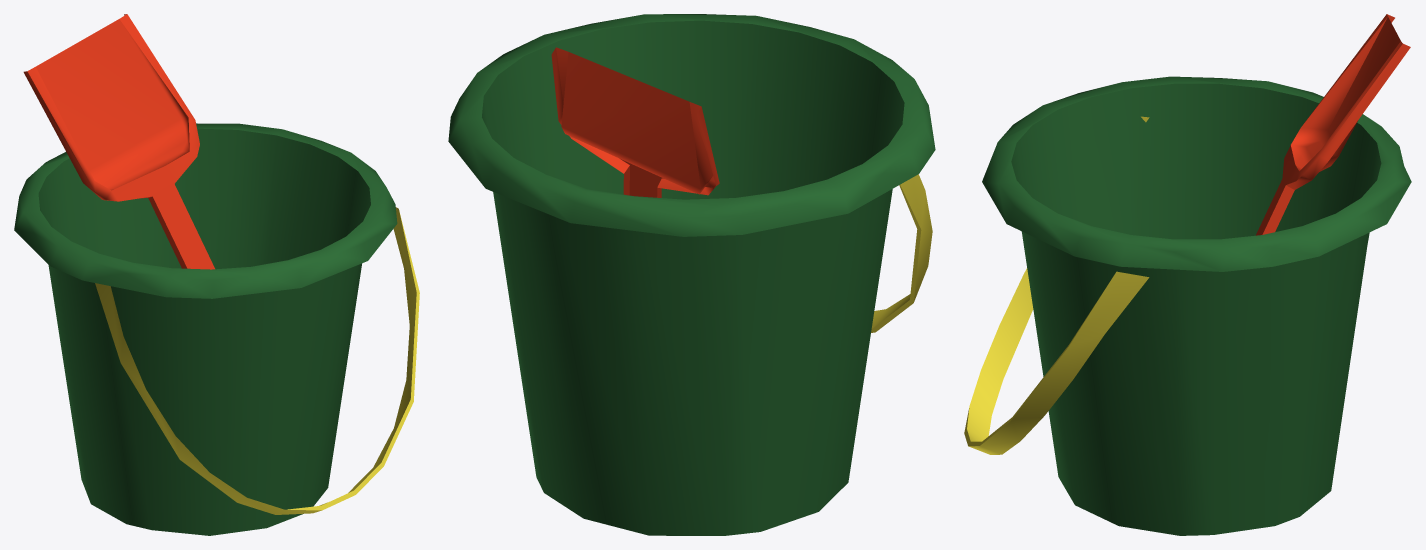
File: secchiello_LOD2.fbx
3 views of the same model, side by side, from view 1: azimuth 30°, elevation 25°; view 2: azimuth 150°, elevation 25°; view 3: azimuth 270°, elevation 25° (orthographic). The views are drawn at different scales.
Visible parts, largest first — view 1: Spade; view 2: Spade; view 3: Spade.
Part boxes in pixels (x1,y1,x2,y2): Spade: (14, 14, 419, 535); Spade: (448, 14, 935, 535); Spade: (964, 14, 1411, 535).
Bounding box in the file's own units: 126 × 144 × 132.
